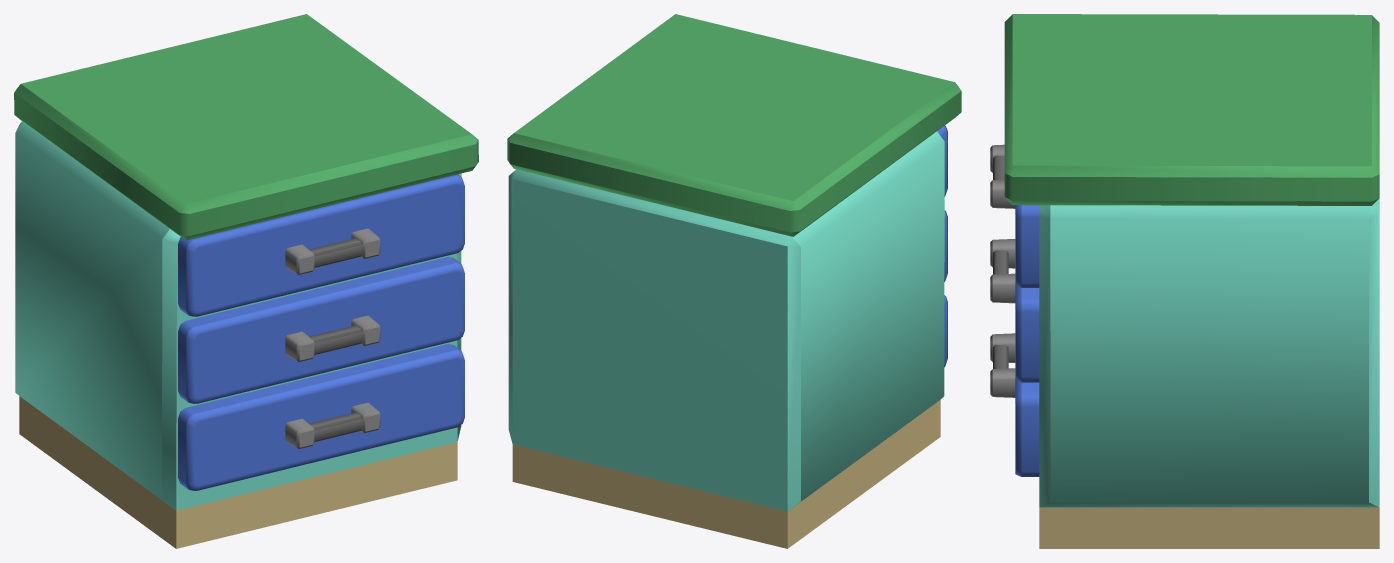
File: Furnit_E_1_E.glb
3 views of the same model, side by side, from view 1: azimuth 30°, elevation 25°; view 2: azimuth 150°, elevation 25°; view 3: azimuth 270°, elevation 25° (orthographic). The views are drawn at different scales.
Visible parts, largest first — view 1: Furnit_E_1_E; view 2: Furnit_E_1_E; view 3: Furnit_E_1_E.
Part boxes in pixels (x1,y1,x2,y2): Furnit_E_1_E: (14, 14, 478, 548); Furnit_E_1_E: (507, 14, 961, 548); Furnit_E_1_E: (990, 14, 1379, 548).
Size of the model in its own units: 0.9 by 1.02 by 0.9348.
Materials: 1 (1 with a texture image).
